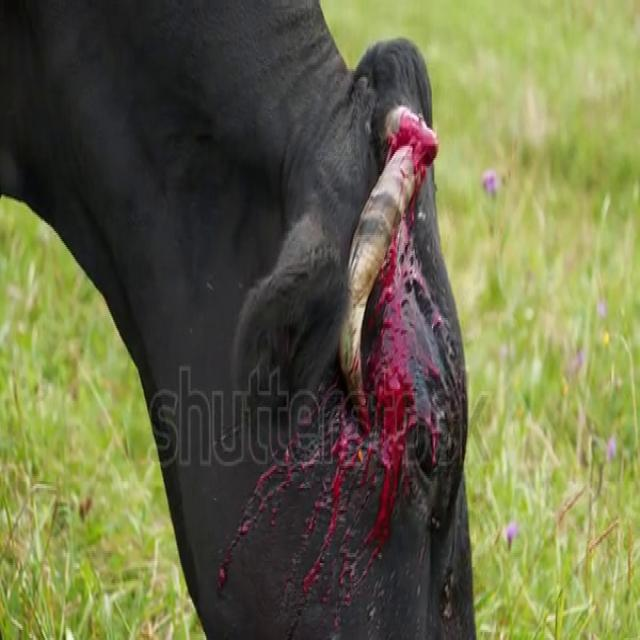injured-animals: (0, 0, 495, 638)
